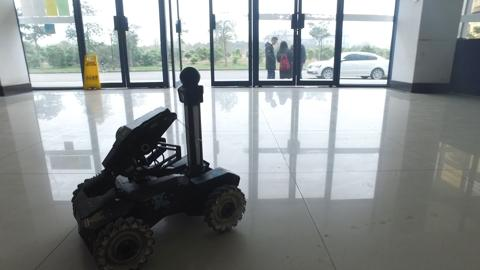chariot: (61, 65, 267, 269)
